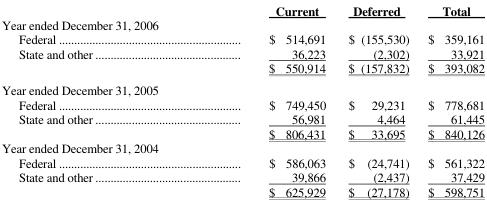table: (0, 1, 484, 199)
table column: (0, 1, 180, 199), (180, 1, 336, 199), (336, 1, 417, 199), (417, 1, 484, 199)
table column header: (0, 1, 484, 17)
table projected row header: (0, 78, 484, 96), (0, 17, 484, 31), (0, 140, 484, 154)
table row: (0, 60, 484, 78), (0, 78, 484, 96), (0, 1, 484, 17), (0, 183, 484, 199), (0, 45, 484, 60), (0, 96, 484, 111), (0, 125, 484, 140), (0, 154, 484, 169), (0, 17, 484, 31), (0, 31, 484, 45), (0, 111, 484, 125), (0, 140, 484, 154), (0, 169, 484, 183)
